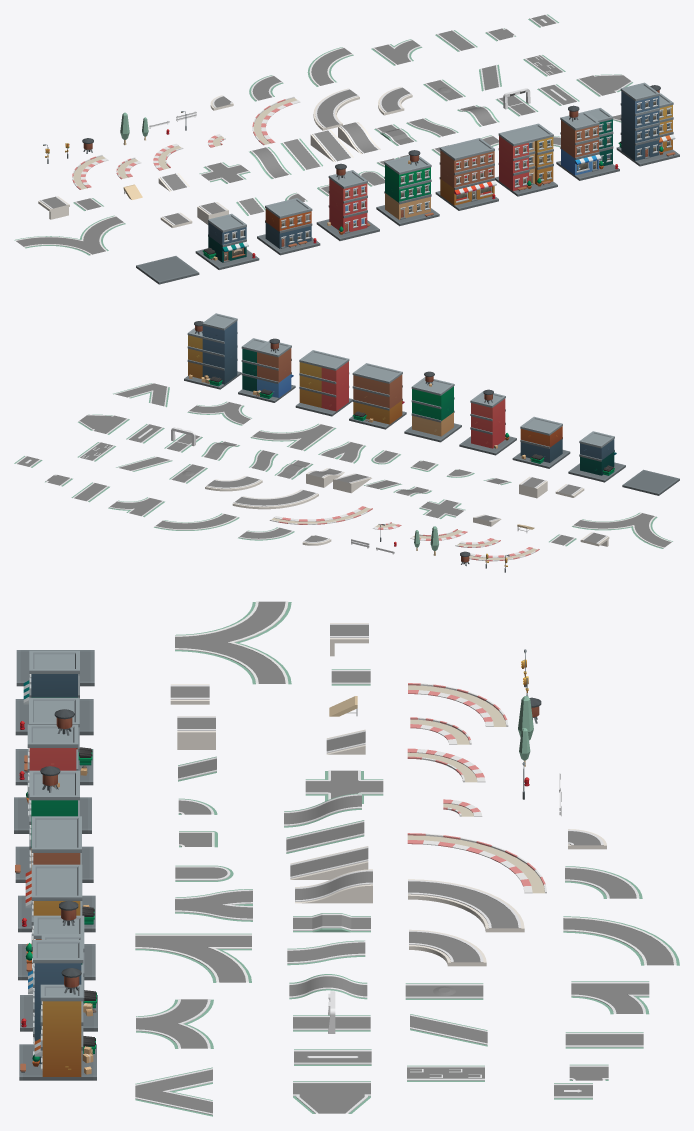
Rendered from track.glb.
The picture shows the model from 3 angles, top to bottom: view 1: azimuth 30°, elevation 25°; view 2: azimuth 150°, elevation 25°; view 3: azimuth 270°, elevation 25°; orthographic projection. The views are drawn at different scales.
Visible parts, largest first — view 1: building_H-col, building_E-col, building_F-col, building_G-col, building_D-col, building_C-col, building_B-col, building_A-col, roadSplitRoundLarge(Clone)-col, base-col, roadCornerBridgeLarger(Clone)-col, roadCornerLarger(Clone)-col (+22 smaller); view 2: building_H-col, building_E-col, building_F-col, building_G-col, building_D-col, building_C-col, building_B-col, building_A-col, roadSplitRoundLarge(Clone)-col, roadSplitLarger(Clone)-col, roadCornerBridgeLarger(Clone)-col, base-col (+23 smaller); view 3: building_H-col, roadSplitRoundLarge(Clone)-col, building_C-col, building_E-col, building_A-col, roadSplitLarger(Clone)-col, building_D-col, building_F-col, roadCornerBridgeLarger(Clone)-col, building_G-col, roadCornerLarger(Clone)-col, roadSplitRound(Clone)-col (+31 smaller).
Boxes of the visible parts, box(x1,y1,x2,y2) form: building_H-col: box(616, 82, 679, 166); building_E-col: box(435, 138, 498, 210); building_F-col: box(495, 123, 557, 196); building_G-col: box(556, 105, 619, 180); building_D-col: box(376, 150, 439, 226); building_C-col: box(316, 163, 379, 240); building_B-col: box(257, 198, 320, 255); building_A-col: box(195, 213, 259, 269); roadSplitRoundLarge(Clone)-col: box(14, 215, 125, 255); base-col: box(136, 256, 199, 284); roadCornerBridgeLarger(Clone)-col: box(313, 88, 359, 130); roadCornerLarger(Clone)-col: box(307, 47, 353, 86); building_H-col: box(184, 313, 241, 389); building_E-col: box(349, 363, 406, 429); building_F-col: box(295, 350, 352, 416); building_G-col: box(238, 338, 295, 402); building_D-col: box(404, 371, 461, 442); building_C-col: box(459, 389, 516, 455); building_B-col: box(512, 416, 570, 468); building_A-col: box(568, 431, 625, 482); roadSplitRoundLarge(Clone)-col: box(572, 512, 672, 548); roadSplitLarger(Clone)-col: box(250, 423, 336, 451); roadCornerBridgeLarger(Clone)-col: box(232, 489, 318, 509); base-col: box(622, 469, 679, 495); building_H-col: box(19, 940, 96, 1080); roadSplitRoundLarge(Clone)-col: box(175, 601, 291, 684); building_C-col: box(14, 709, 91, 833); building_E-col: box(18, 816, 95, 932); building_A-col: box(15, 650, 93, 735); roadSplitLarger(Clone)-col: box(135, 933, 251, 982); building_D-col: box(15, 766, 93, 882); building_F-col: box(18, 864, 95, 980); roadCornerBridgeLarger(Clone)-col: box(408, 879, 524, 932); building_G-col: box(20, 900, 97, 1031); roadCornerLarger(Clone)-col: box(563, 916, 679, 965); roadSplitRound(Clone)-col: box(136, 999, 213, 1048).
Size of the model in its own units: 31.29 by 3.05 by 17.11.
Materials: 160 (14 with a texture image).
